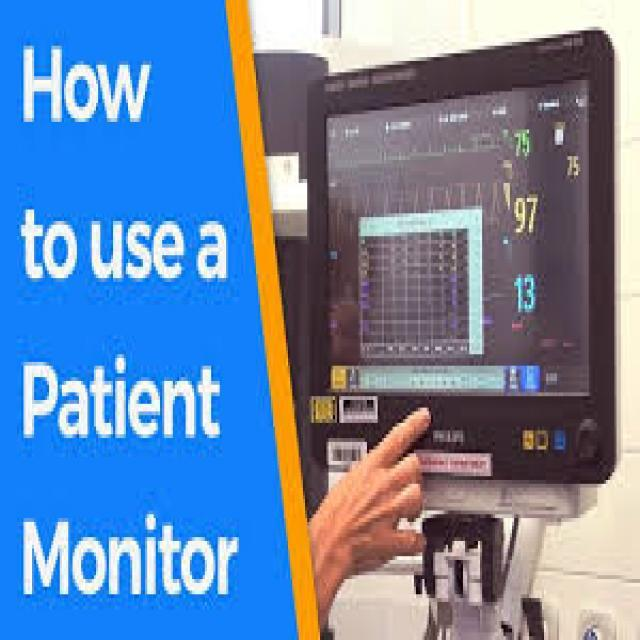cardiac_monitor: (307, 58, 629, 526)
